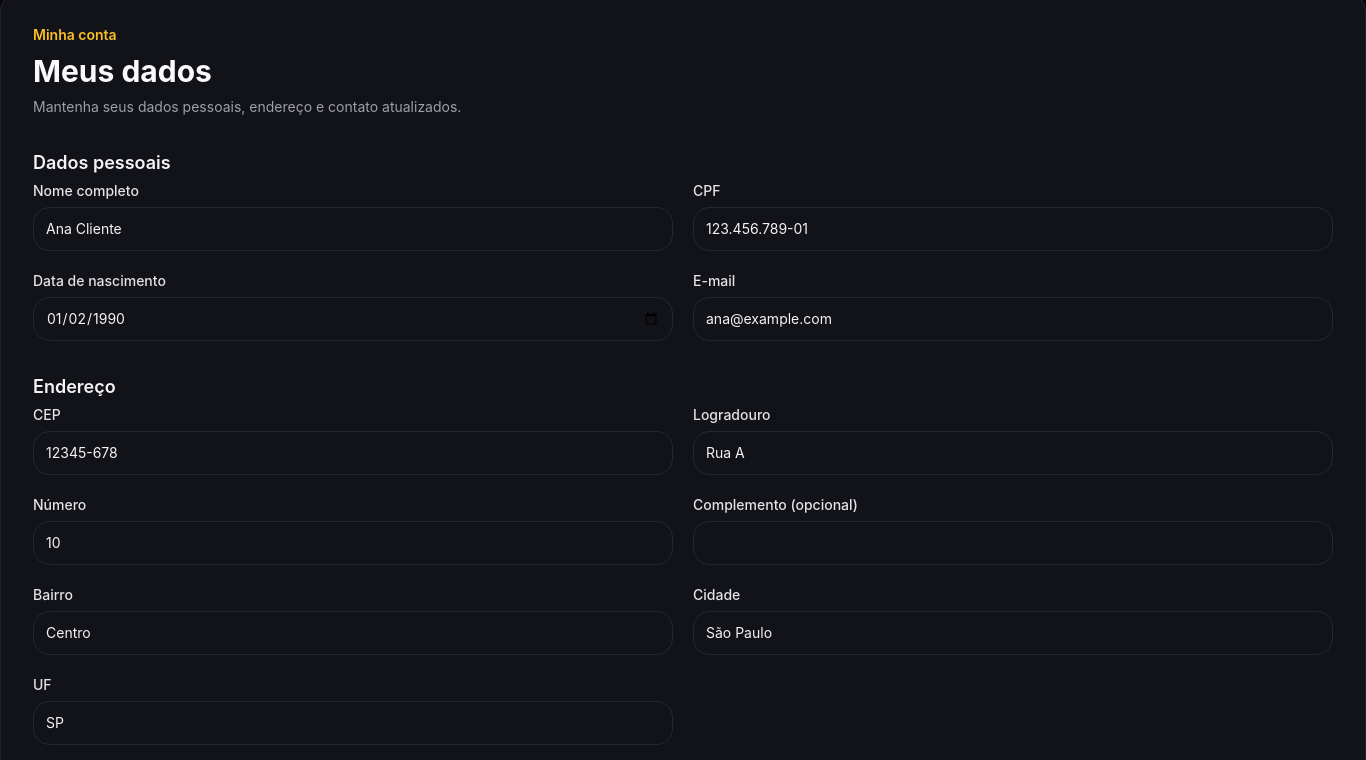
CustomerDataForm › cancels a CPF change without submitting and restores focus to submit
Replace the text in the field labelled "CPF" with "98765432100" at (1013, 229), box [693,207,1333,251]
(page scrolled)
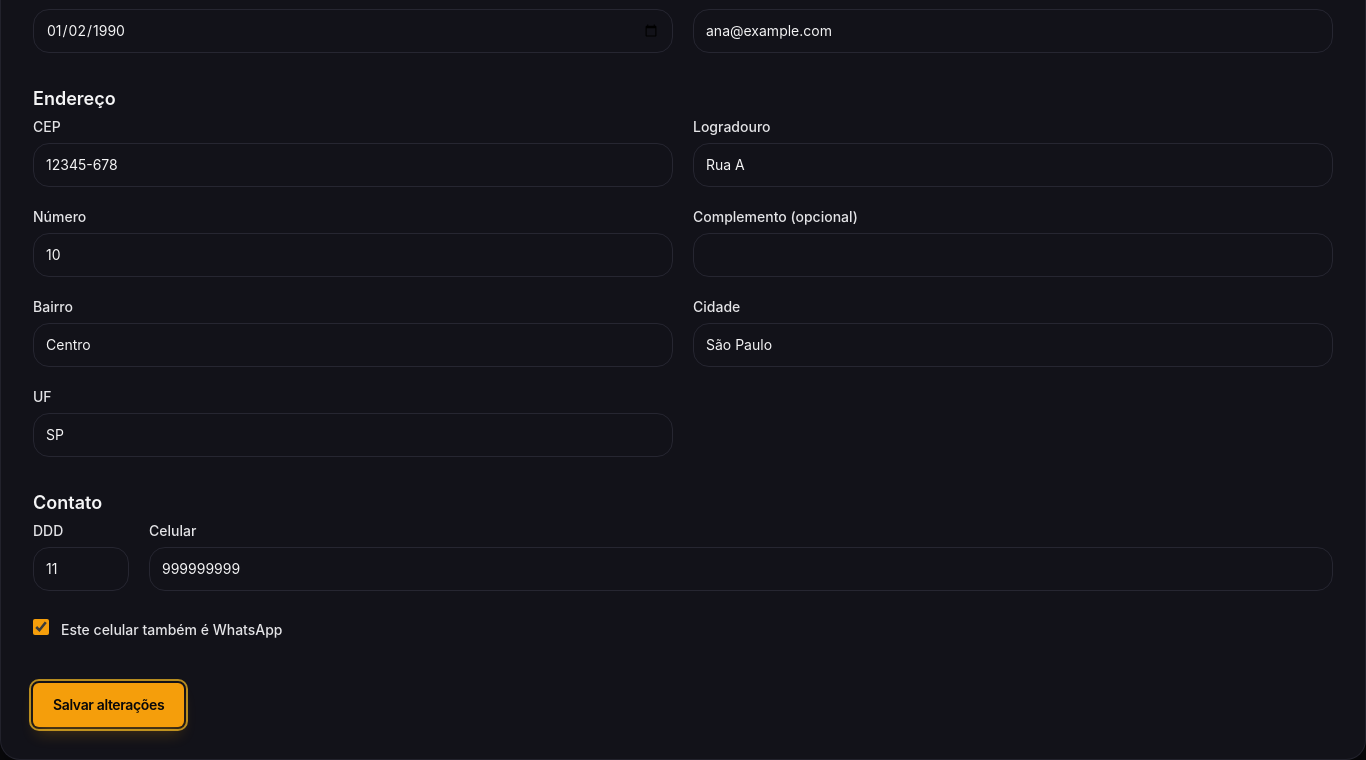
Click the button "Salvar alterações" at (109, 705), box [33,683,184,727]
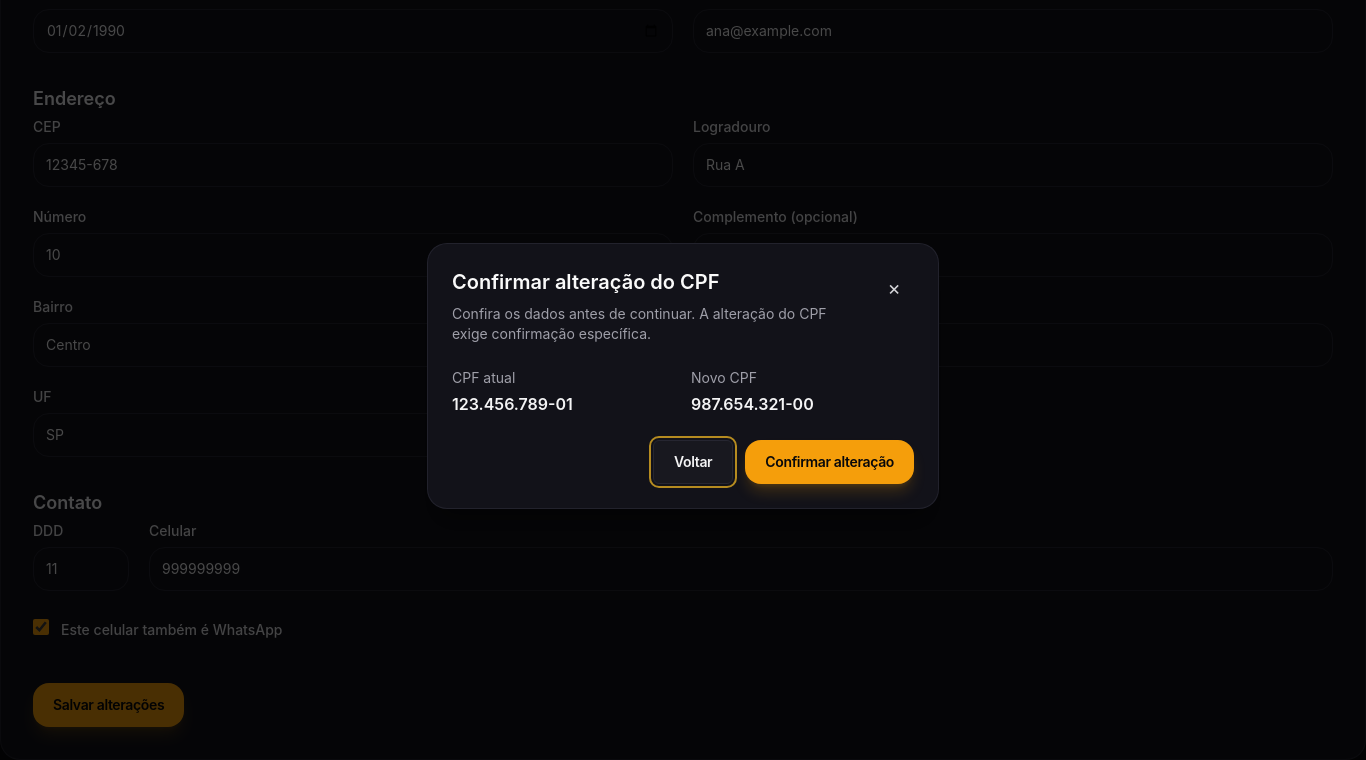
Press Escape in the dialog "Confirmar alteração do CPF", box [427,243,939,509]
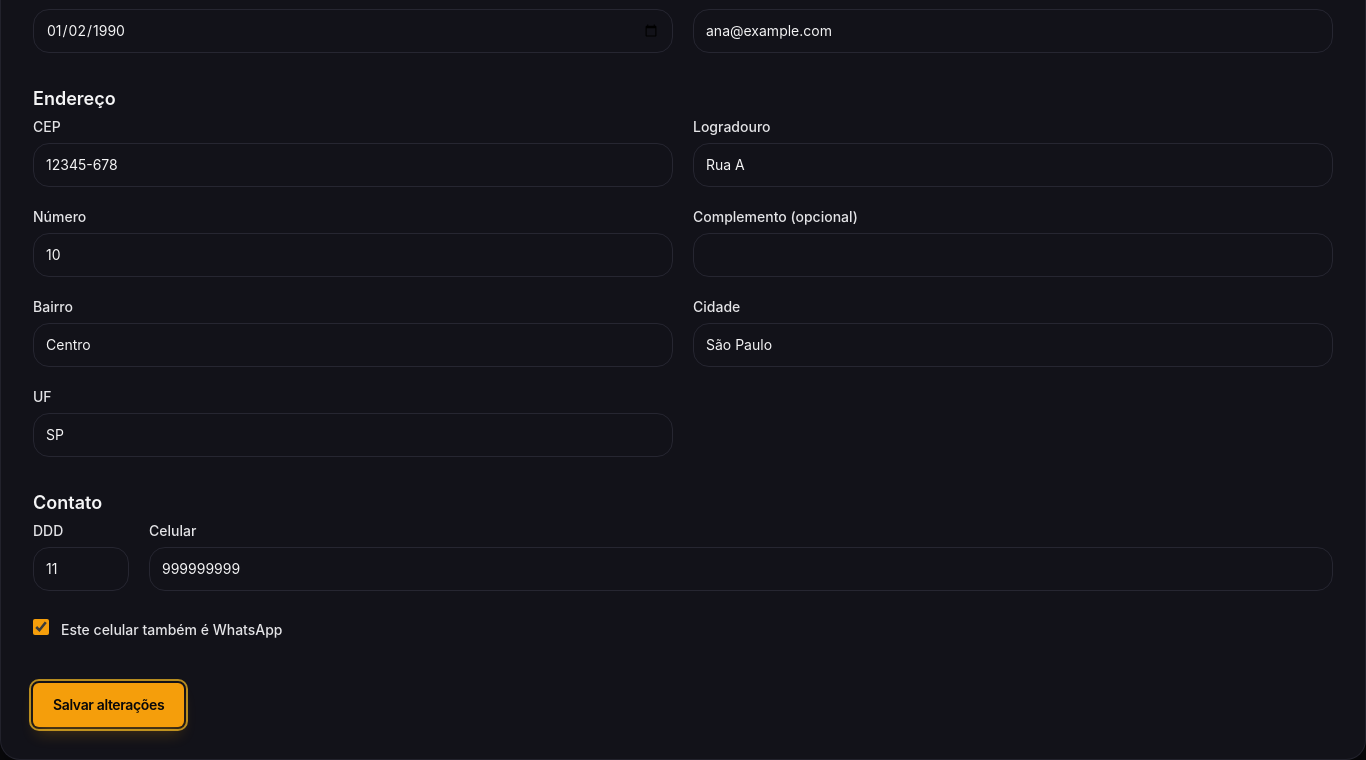
Check: the dialog is gone
